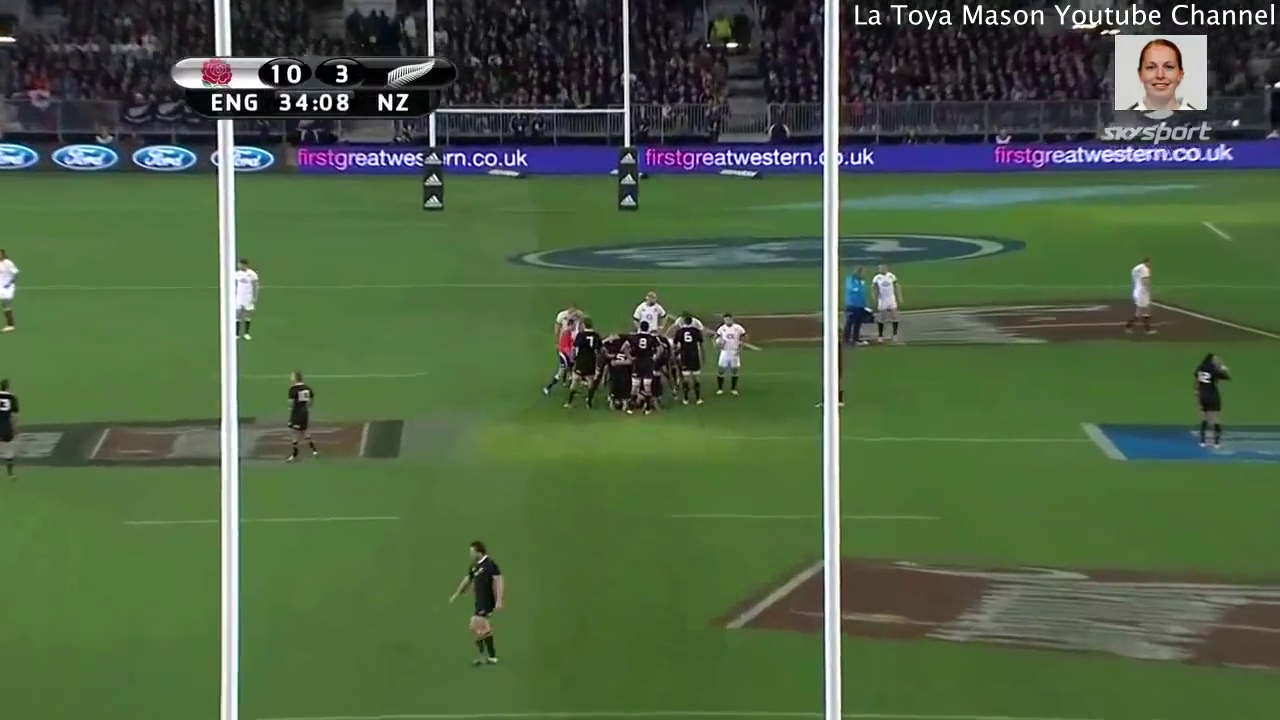ball: (709, 331, 729, 351)
player: (442, 532, 512, 669), (269, 364, 325, 468), (1183, 348, 1238, 453), (705, 308, 754, 404), (559, 314, 605, 413), (625, 315, 665, 421), (668, 313, 710, 412), (1121, 252, 1166, 344), (864, 259, 909, 348), (225, 252, 262, 345), (539, 314, 578, 402), (838, 256, 874, 351), (1, 372, 26, 494), (599, 347, 638, 419), (1, 240, 24, 338), (623, 283, 666, 329), (547, 298, 594, 336)
post: (197, 1, 859, 720), (406, 1, 649, 236)
